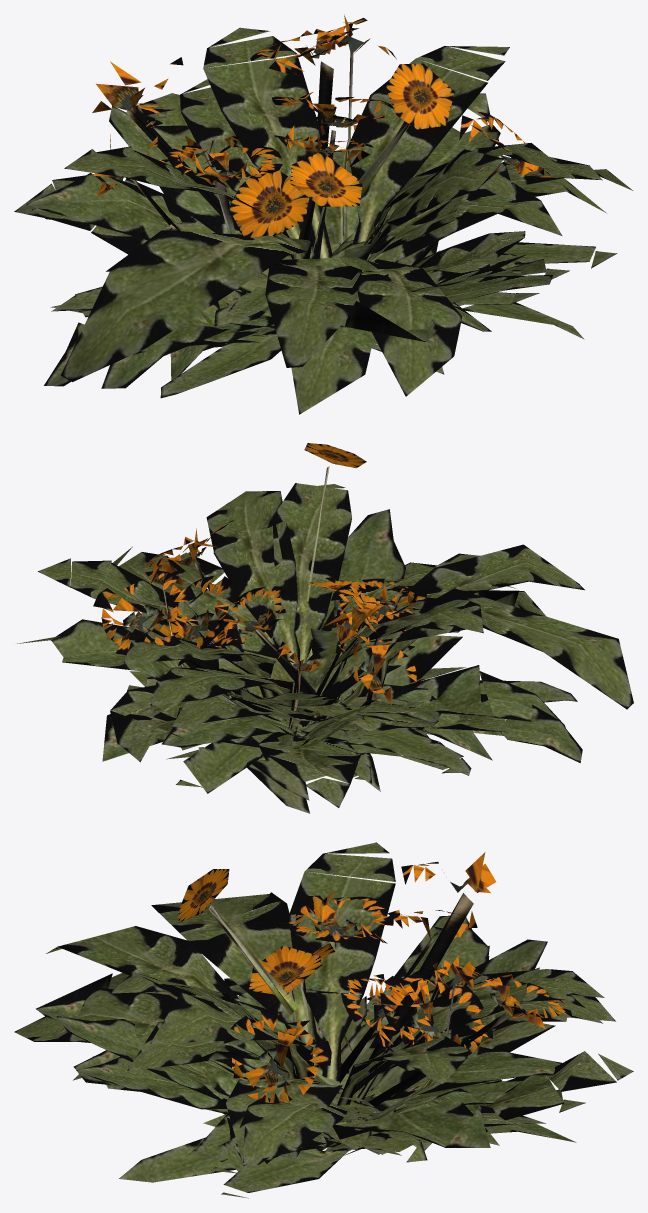
Rendered from ph_flower_gazania.glb.
3 renders of one model, top to bottom at view 1: azimuth 30°, elevation 25°; view 2: azimuth 150°, elevation 25°; view 3: azimuth 270°, elevation 25°, orthographic. The views are drawn at different scales.
Parts seen in each view (by area): view 1: v0, v1, v2, v3, v4, v6, v5, v7; view 2: v0, v2, v1, v3, v4, v5, v6, v7; view 3: v0, v2, v1, v3, v4, v6, v5.
Part boxes in pixels (x1=…): v0: x1=60, y1=14, x2=632, y2=396; v1: x1=101, y1=18, x2=569, y2=414; v2: x1=14, y1=92, x2=605, y2=386; v3: x1=26, y1=135, x2=521, y2=318; v4: x1=160, y1=125, x2=525, y2=398; v6: x1=200, y1=173, x2=584, y2=374; v5: x1=32, y1=188, x2=533, y2=317; v7: x1=214, y1=242, x2=368, y2=343; v0: x1=17, y1=443, x2=633, y2=793; v2: x1=152, y1=544, x2=584, y2=807; v1: x1=93, y1=520, x2=565, y2=731; v3: x1=146, y1=578, x2=471, y2=800; v4: x1=162, y1=586, x2=577, y2=791; v5: x1=166, y1=642, x2=468, y2=813; v6: x1=102, y1=645, x2=492, y2=761; v7: x1=244, y1=651, x2=422, y2=730; v0: x1=14, y1=842, x2=633, y2=1198; v2: x1=36, y1=910, x2=615, y2=1165; v1: x1=76, y1=943, x2=602, y2=1173; v3: x1=226, y1=890, x2=501, y2=1163; v4: x1=73, y1=973, x2=561, y2=1162; v6: x1=73, y1=1021, x2=576, y2=1182; v5: x1=214, y1=943, x2=499, y2=1166.
Bounding box in the file's own units: 0.3387 × 0.1725 × 0.3276.
Materials: 1 (1 with a texture image).
